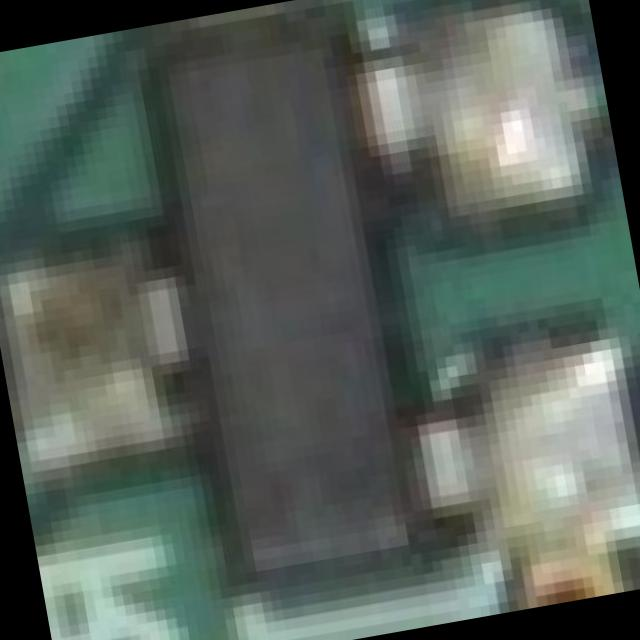transistor: (16, 0, 522, 640)
